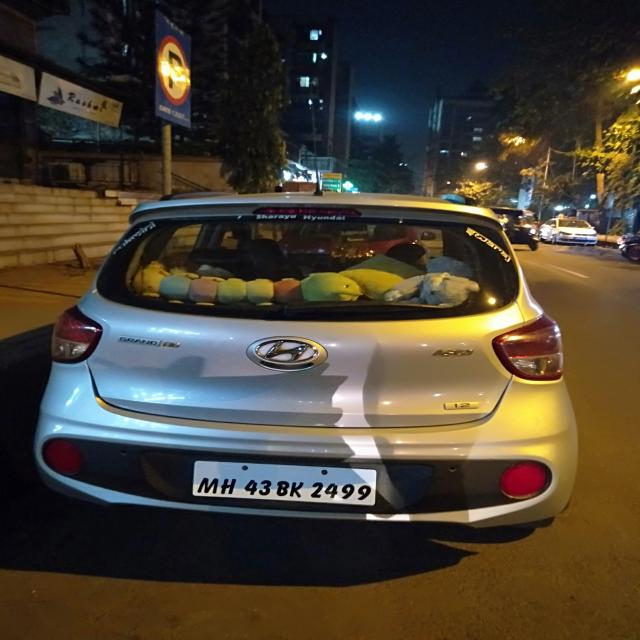Number-Plate: (197, 461, 372, 505)
